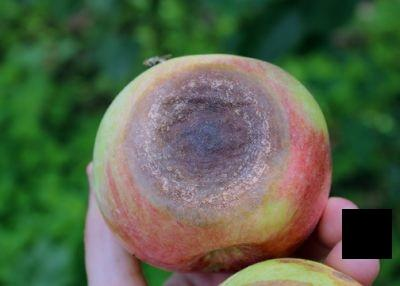rotten apple: (92, 48, 343, 274)
